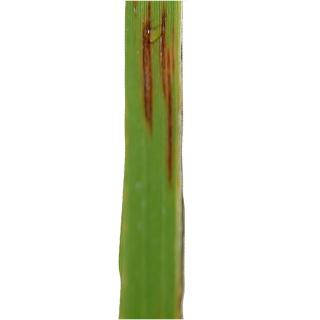Bercak-Cokelat-Sempit: (136, 2, 182, 196)
